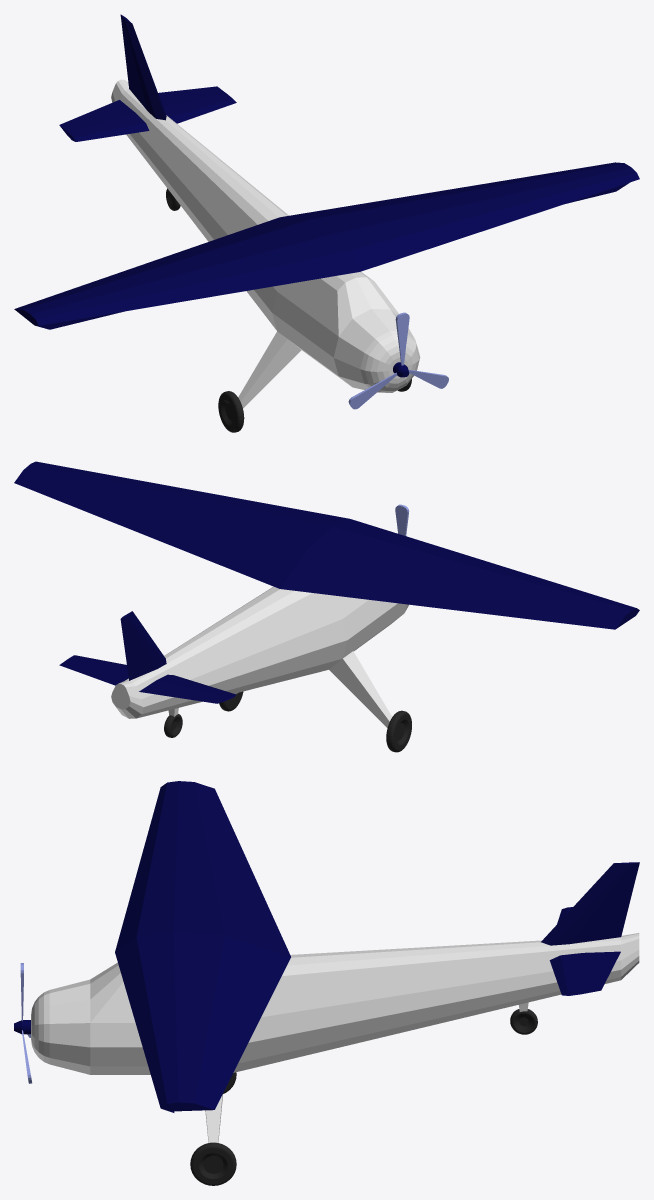
3 views of the same model, one above another, from view 1: azimuth 30°, elevation 25°; view 2: azimuth 150°, elevation 25°; view 3: azimuth 270°, elevation 25° (orthographic). The views are drawn at different scales.
Parts seen in each view (by area): view 1: big wings, plane body, back wings, top back wing, front weel legs, front weels; view 2: big wings, plane body, back wings, top back wing, front weel legs, front weels; view 3: big wings, plane body, top back wing, back wings, front weels, back weel.
Part boxes in pixels (x1,y1,x2,y2): big wings: (14,162,639,329); plane body: (111,79,420,392); back wings: (59,86,236,141); top back wing: (120,14,166,120); front weel legs: (238,331,301,408); front weels: (218,379,411,432); big wings: (14,461,639,629); plane body: (111,586,408,718); back wings: (59,655,236,703); top back wing: (120,611,166,680); front weel legs: (234,651,391,727); front weels: (219,691,411,752); big wings: (115,781,290,1112); plane body: (31,933,639,1074); top back wing: (541,862,639,945); back wings: (549,907,620,995); front weels: (190,1072,236,1185); back weel: (510,1009,537,1034).
Size of the model in its own units: 1165 by 470 by 959.
